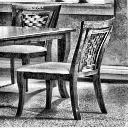chair_success: (14, 16, 118, 120), (0, 1, 62, 89)
